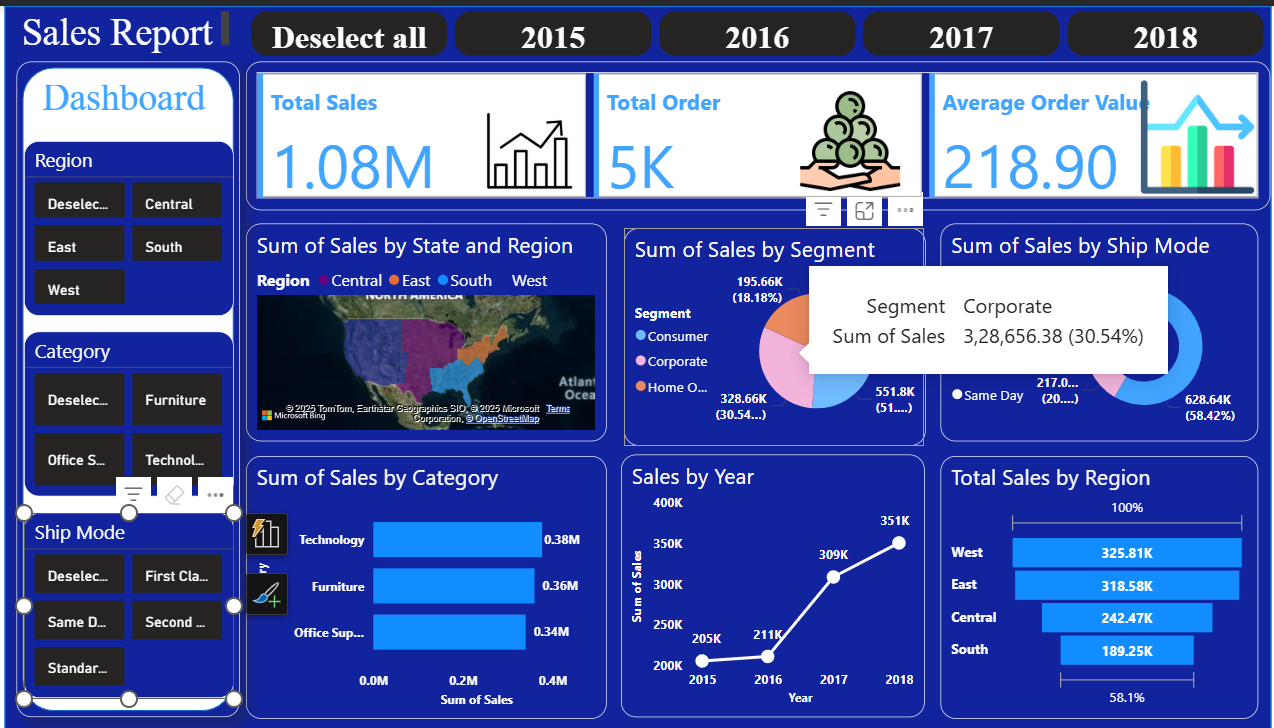

Layout of this report page (visuals, bound fields, positions):
{"tool":"powerbi","page":{"name":"Page 1","canvas":[1280,720],"ordinal":0},"visuals":[{"type":"shape","box":[10,0,1260,720],"z":0},{"type":"lineChart","title":" Sales by Year","fields":{"Category":["cleaned_train.Order Date.Variation.Date Hierarchy.Year","cleaned_train.Order Date.Variation.Date Hierarchy.Quarter","cleaned_train.Order Date.Variation.Date Hierarchy.Month","cleaned_train.Order Date.Variation.Date Hierarchy.Day"],"Y":["Sum(cleaned_train.Sales)"]},"box":[623.8,445.6,301.8,261.3],"z":1000},{"type":"filledMap","fields":{"Category":["cleaned_train.State","cleaned_train.Postal Code"],"Series":["cleaned_train.Region"]},"box":[251.1,216.7,358.5,216.7],"z":2000},{"type":"barChart","fields":{"Category":["cleaned_train.Category"],"Y":["Sum(cleaned_train.Sales)"]},"box":[251.1,447.6,358.5,261.3],"z":3000},{"type":"pieChart","fields":{"Category":["cleaned_train.Segment"],"Y":["Sum(cleaned_train.Sales)"]},"box":[625.8,220.8,299.7,216.7],"z":4000},{"type":"donutChart","fields":{"Category":["cleaned_train.Ship Mode"],"Y":["Sum(cleaned_train.Sales)"]},"box":[941.8,216.7,315.9,216.7],"z":5000},{"type":"cardVisual","fields":{"Data":["cleaned_train.Total Sales","cleaned_train.Numbers of Orders","cleaned_train.Average Order Value"]},"box":[250.6,55.2,1006.9,147.7],"z":6000},{"type":"image","box":[456.5,85,152.2,117.8],"z":7000},{"type":"image","box":[777.2,76.1,149.2,116.4],"z":8000},{"type":"image","box":[1135.2,85,110.4,107.4],"z":9000},{"type":"textbox","box":[22.4,0,216.3,55.2],"z":11000},{"type":"shape","box":[22.3,54.7,222,652.2],"z":12000},{"type":"textbox","box":[38.5,72.9,180.3,54.7],"z":13000},{"type":"advancedSlicerVisual","fields":{"Values":["cleaned_train.Region"]},"box":[30.4,133.7,208.6,174.2],"z":14000},{"type":"advancedSlicerVisual","fields":{"Values":["cleaned_train.Category"]},"box":[29.8,325.2,208.8,164.1],"z":15000},{"type":"advancedSlicerVisual","fields":{"Values":["cleaned_train.Ship Mode"]},"box":[30.4,504.3,208.6,184.3],"z":16000},{"type":"advancedSlicerVisual","fields":{"Values":["cleaned_train.Ship Date.Variation.Date Hierarchy.Year"]},"box":[250.6,0,1006.9,55.2],"z":17000},{"type":"funnel","fields":{"Y":["cleaned_train.Total Sales"],"Category":["cleaned_train.Region"]},"box":[941.8,447.6,315.9,261.3],"z":18000}]}

Visuals, with their boxes in screenshot pixels (x1, y1, x2, y2), scaled from the page's 1280x720 canvas onto the 1274x728 screenshot:
shape: bbox(10, 0, 1264, 727)
" Sales by Year" lineChart: bbox(621, 451, 921, 715)
filledMap - cleaned_train.State x cleaned_train.Postal Code: bbox(250, 219, 607, 438)
barChart - cleaned_train.Category x Sum(cleaned_train.Sales): bbox(250, 453, 607, 717)
pieChart - cleaned_train.Segment x Sum(cleaned_train.Sales): bbox(623, 223, 921, 442)
donutChart - cleaned_train.Ship Mode x Sum(cleaned_train.Sales): bbox(937, 219, 1252, 438)
cardVisual - cleaned_train.Total Sales x cleaned_train.Numbers of Orders: bbox(249, 56, 1252, 205)
image: bbox(454, 86, 606, 205)
image: bbox(774, 77, 922, 195)
image: bbox(1130, 86, 1240, 195)
textbox: bbox(22, 0, 238, 56)
shape: bbox(22, 55, 243, 715)
textbox: bbox(38, 74, 218, 129)
advancedSlicerVisual - cleaned_train.Region: bbox(30, 135, 238, 311)
advancedSlicerVisual - cleaned_train.Category: bbox(30, 329, 237, 495)
advancedSlicerVisual - cleaned_train.Ship Mode: bbox(30, 510, 238, 696)
advancedSlicerVisual - cleaned_train.Ship Date.Variation.Date Hierarchy.Year: bbox(249, 0, 1252, 56)
funnel - cleaned_train.Total Sales x cleaned_train.Region: bbox(937, 453, 1252, 717)
